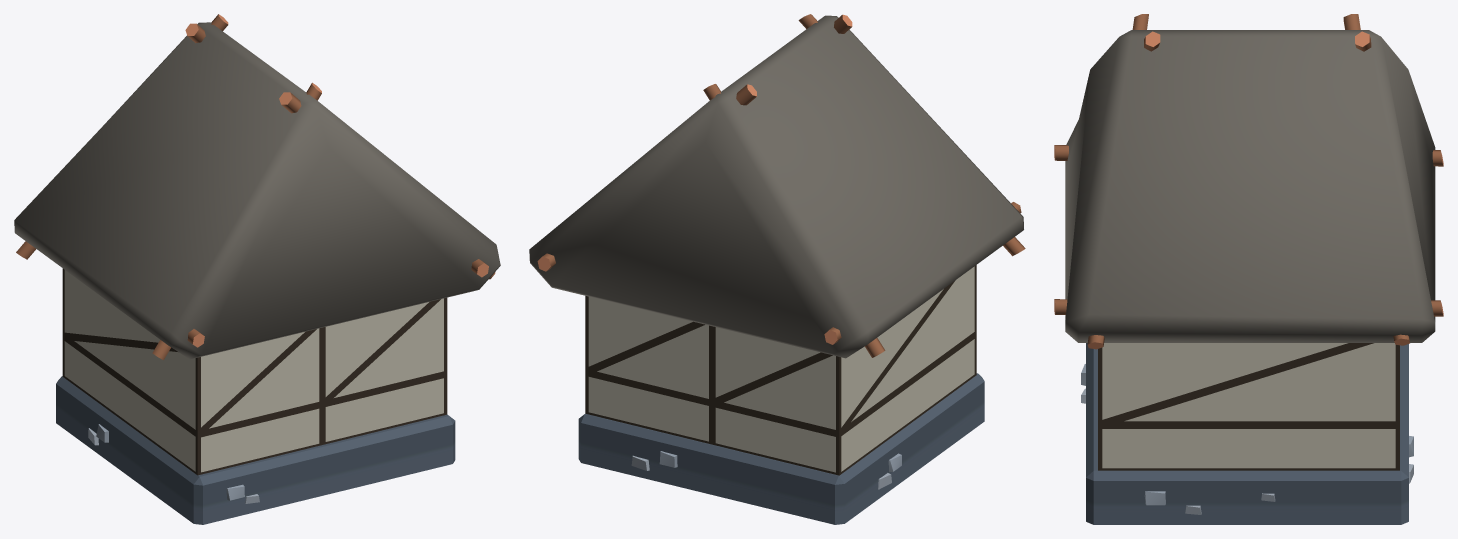
File: house-ver2-small.glb
3 views of the same model, side by side, from view 1: azimuth 30°, elevation 25°; view 2: azimuth 150°, elevation 25°; view 3: azimuth 270°, elevation 25° (orthographic). The views are drawn at different scales.
Parts seen in each view (by area): view 1: House-ver2-small_Texture-base_0; view 2: House-ver2-small_Texture-base_0; view 3: House-ver2-small_Texture-base_0.
Part boxes in pixels (x1,y1,x2,y2): House-ver2-small_Texture-base_0: (14, 14, 500, 524); House-ver2-small_Texture-base_0: (529, 14, 1025, 524); House-ver2-small_Texture-base_0: (1054, 14, 1443, 524).
Size of the model in its own units: 6.24 by 6.76 by 5.51.
Materials: 1 (1 with a texture image).
